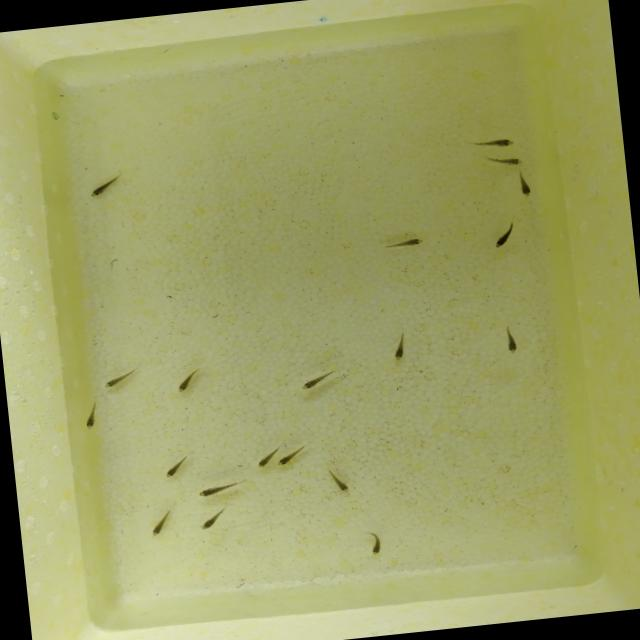fingerling: (167, 359, 214, 398), (81, 168, 126, 202), (468, 130, 526, 153), (378, 232, 433, 255), (291, 369, 336, 395), (494, 322, 526, 358), (156, 452, 191, 484), (481, 149, 530, 171), (100, 367, 142, 391), (491, 222, 518, 254), (275, 444, 311, 468), (80, 398, 102, 437), (200, 505, 230, 530), (387, 332, 409, 364), (149, 508, 171, 540), (510, 172, 535, 200), (194, 484, 238, 499), (326, 466, 349, 492), (368, 530, 382, 556), (252, 455, 274, 467)
